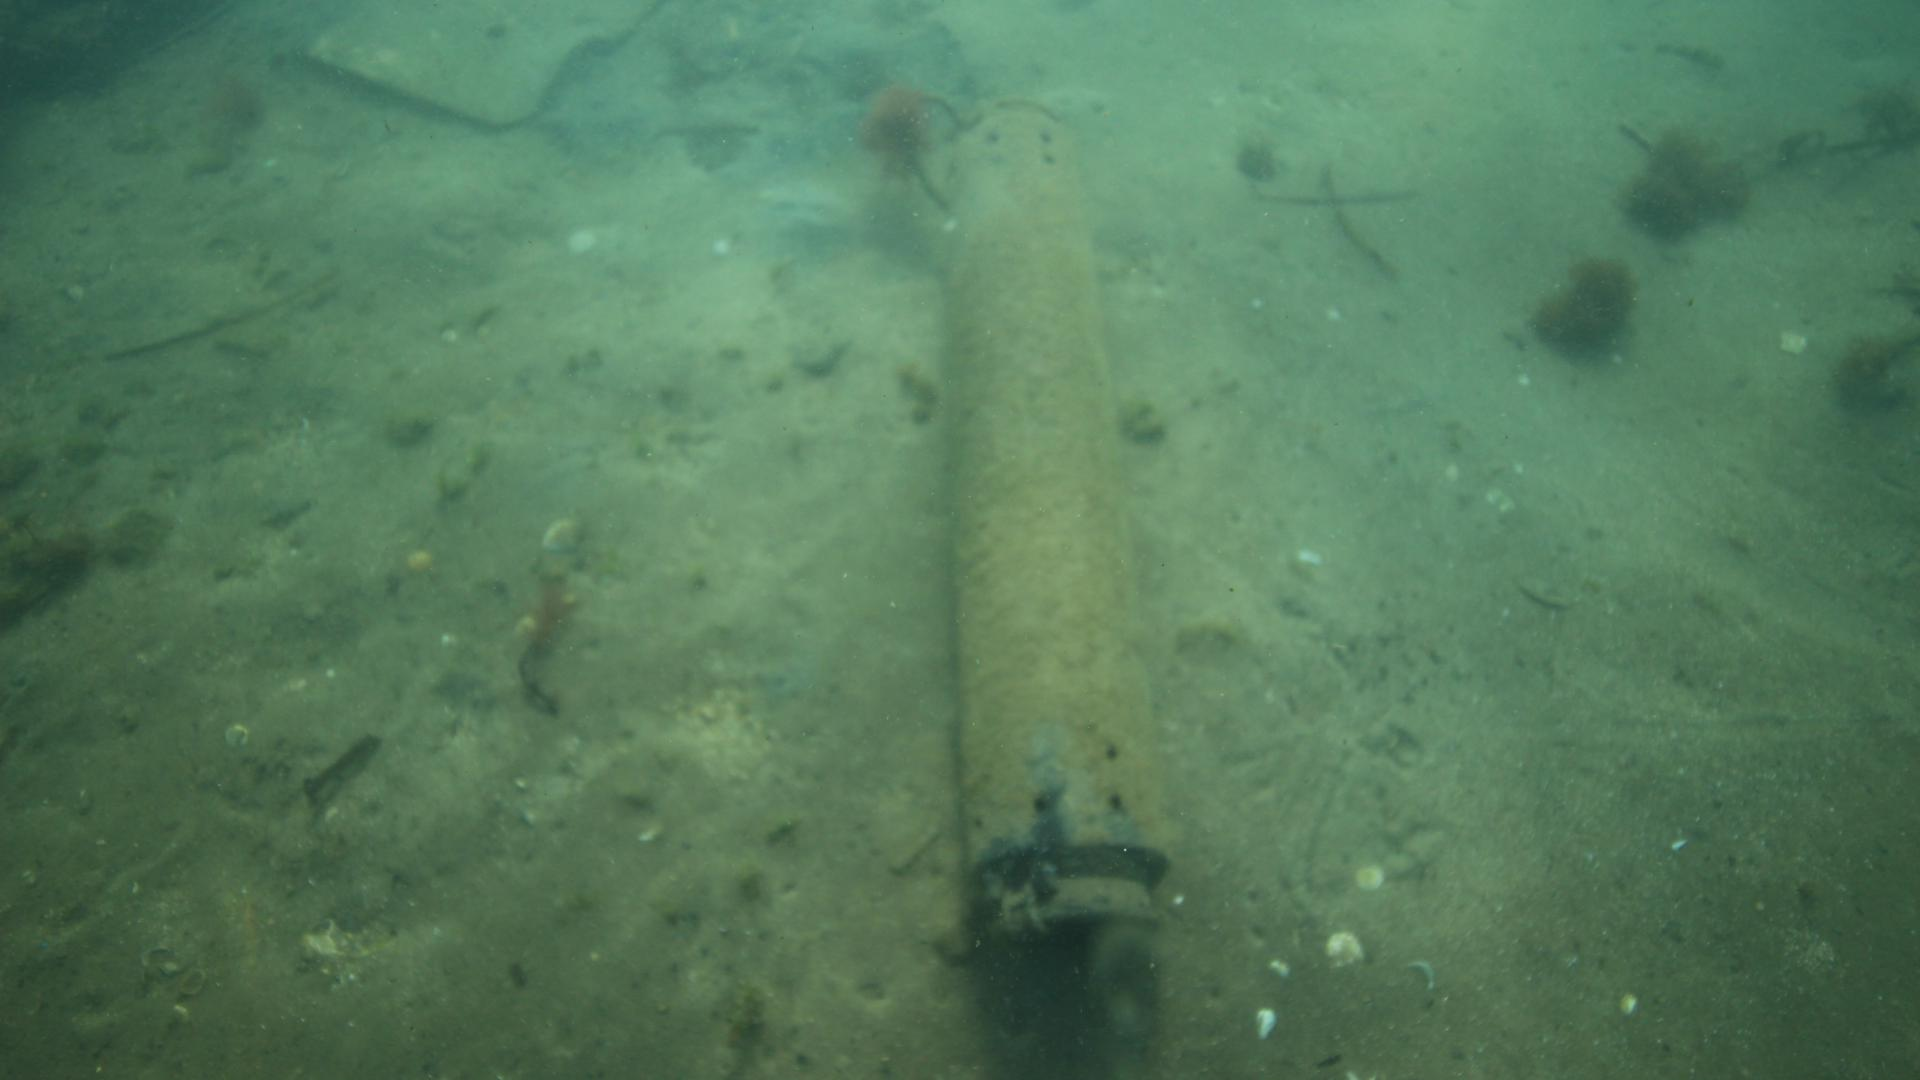eel fish trap: (945, 91, 1178, 952)
